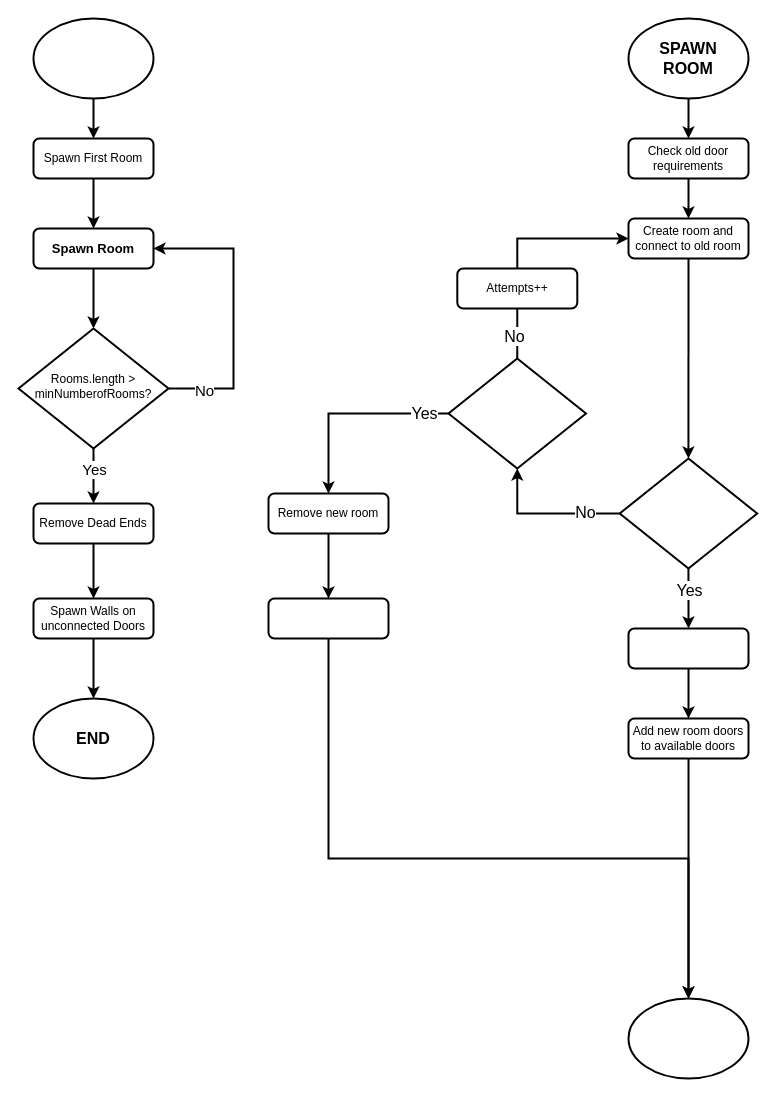
Some shapes in this 775 by 1096 pixel diagram are drawn without their labels. Each missing label, with the centre of its shape:
Do Attempts exceed 10?: [516,413]
Does new room fit?: [688,513]
GENERATE DUNGEON: [93,58]
Mark old door as unavailable: [328,618]
Remove old door: [688,648]
RETURN: [688,1038]
